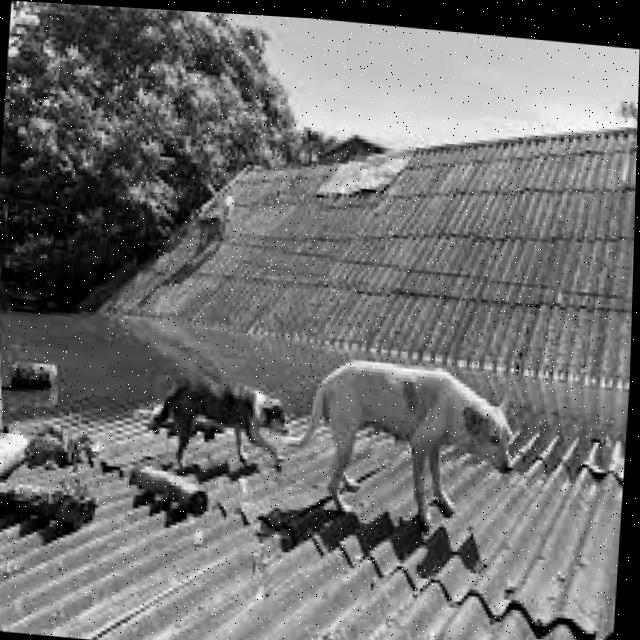dog: (298, 341, 517, 542), (140, 366, 299, 488)
